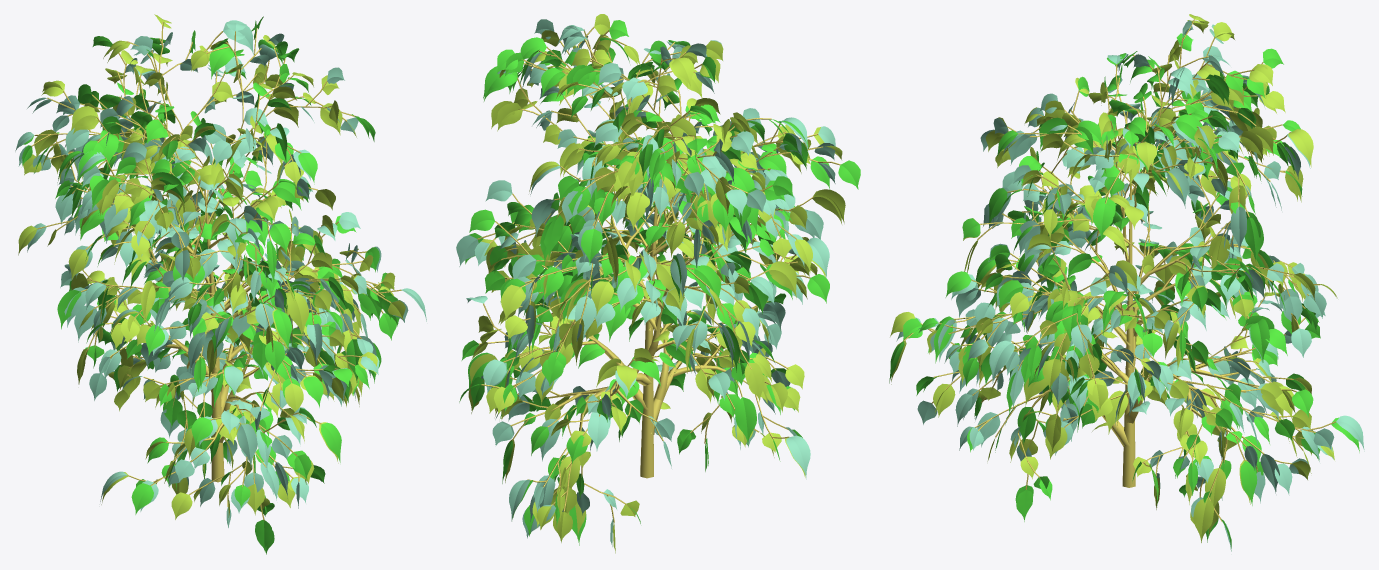
The model's file is plant.fbx.
3 views of the same model, side by side, from view 1: azimuth 30°, elevation 25°; view 2: azimuth 150°, elevation 25°; view 3: azimuth 270°, elevation 25° (orthographic). The views are drawn at different scales.
Parts seen in each view (by area): view 1: plant; view 2: plant; view 3: plant.
Part boxes in pixels (x1,y1,x2,y2): plant: (15,14,426,554); plant: (456,14,860,553); plant: (889,14,1364,551).
Bounding box in the file's own units: 118 × 157 × 137.
